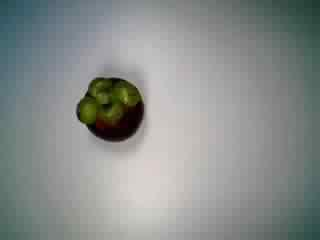mangosteen: (71, 69, 145, 148)
